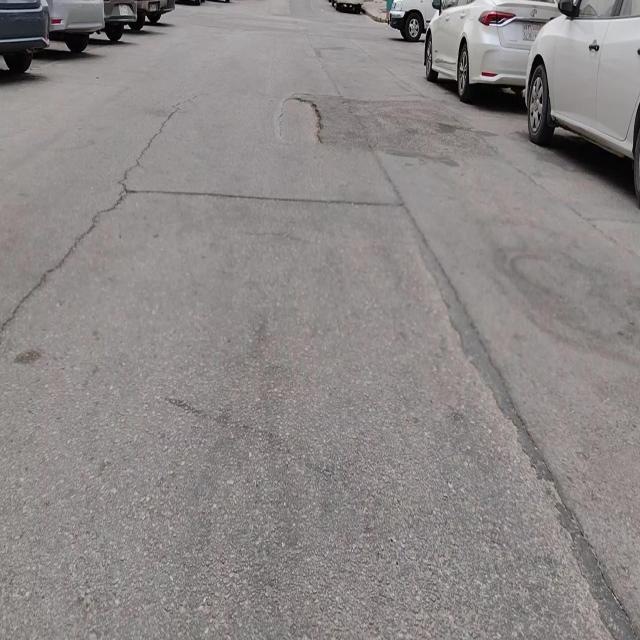Pothole: (278, 96, 323, 144)
